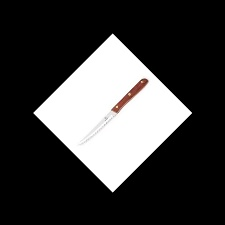k1: (76, 106, 118, 146)
